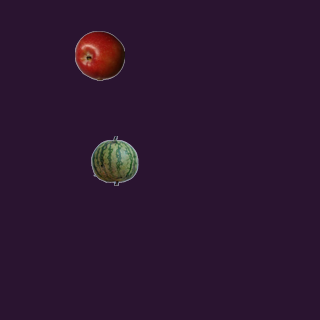Apple Braeburn: (74, 30, 124, 80)
Watermelon: (89, 135, 139, 185)
